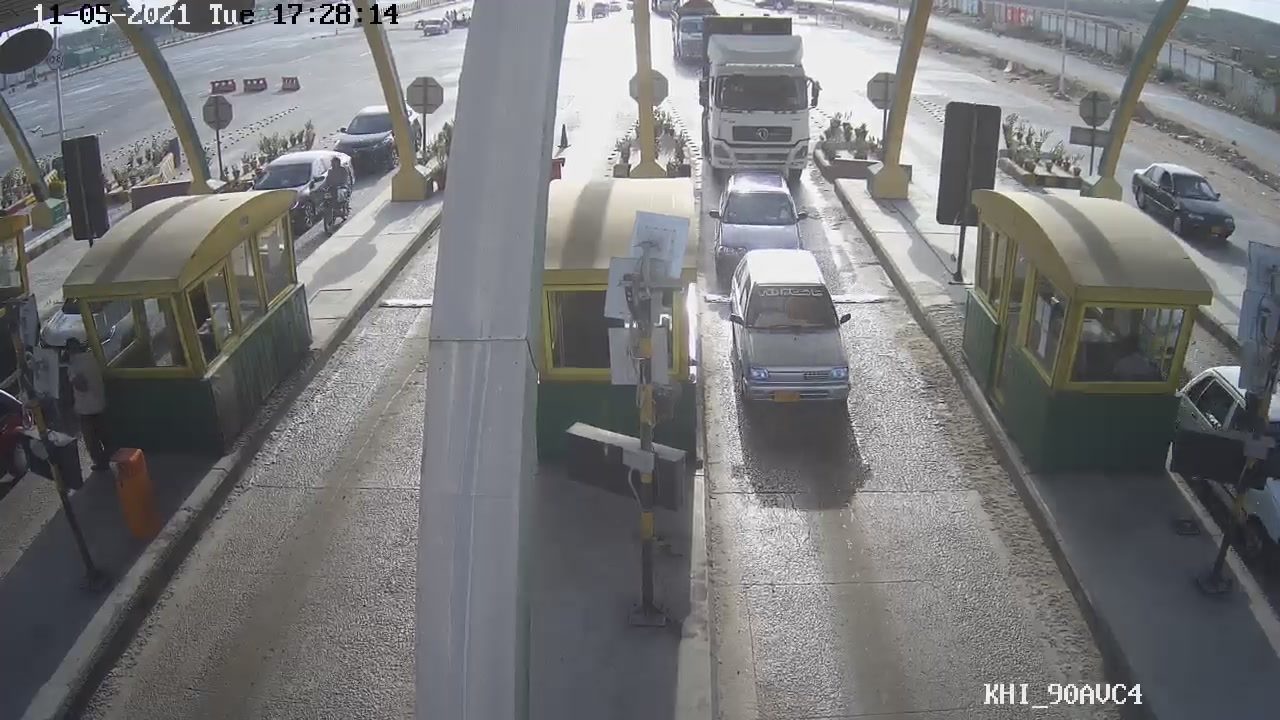F1: (708, 249, 873, 413)
